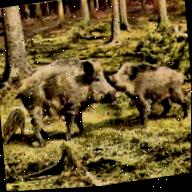boar: (16, 42, 129, 148), (107, 53, 192, 142)
